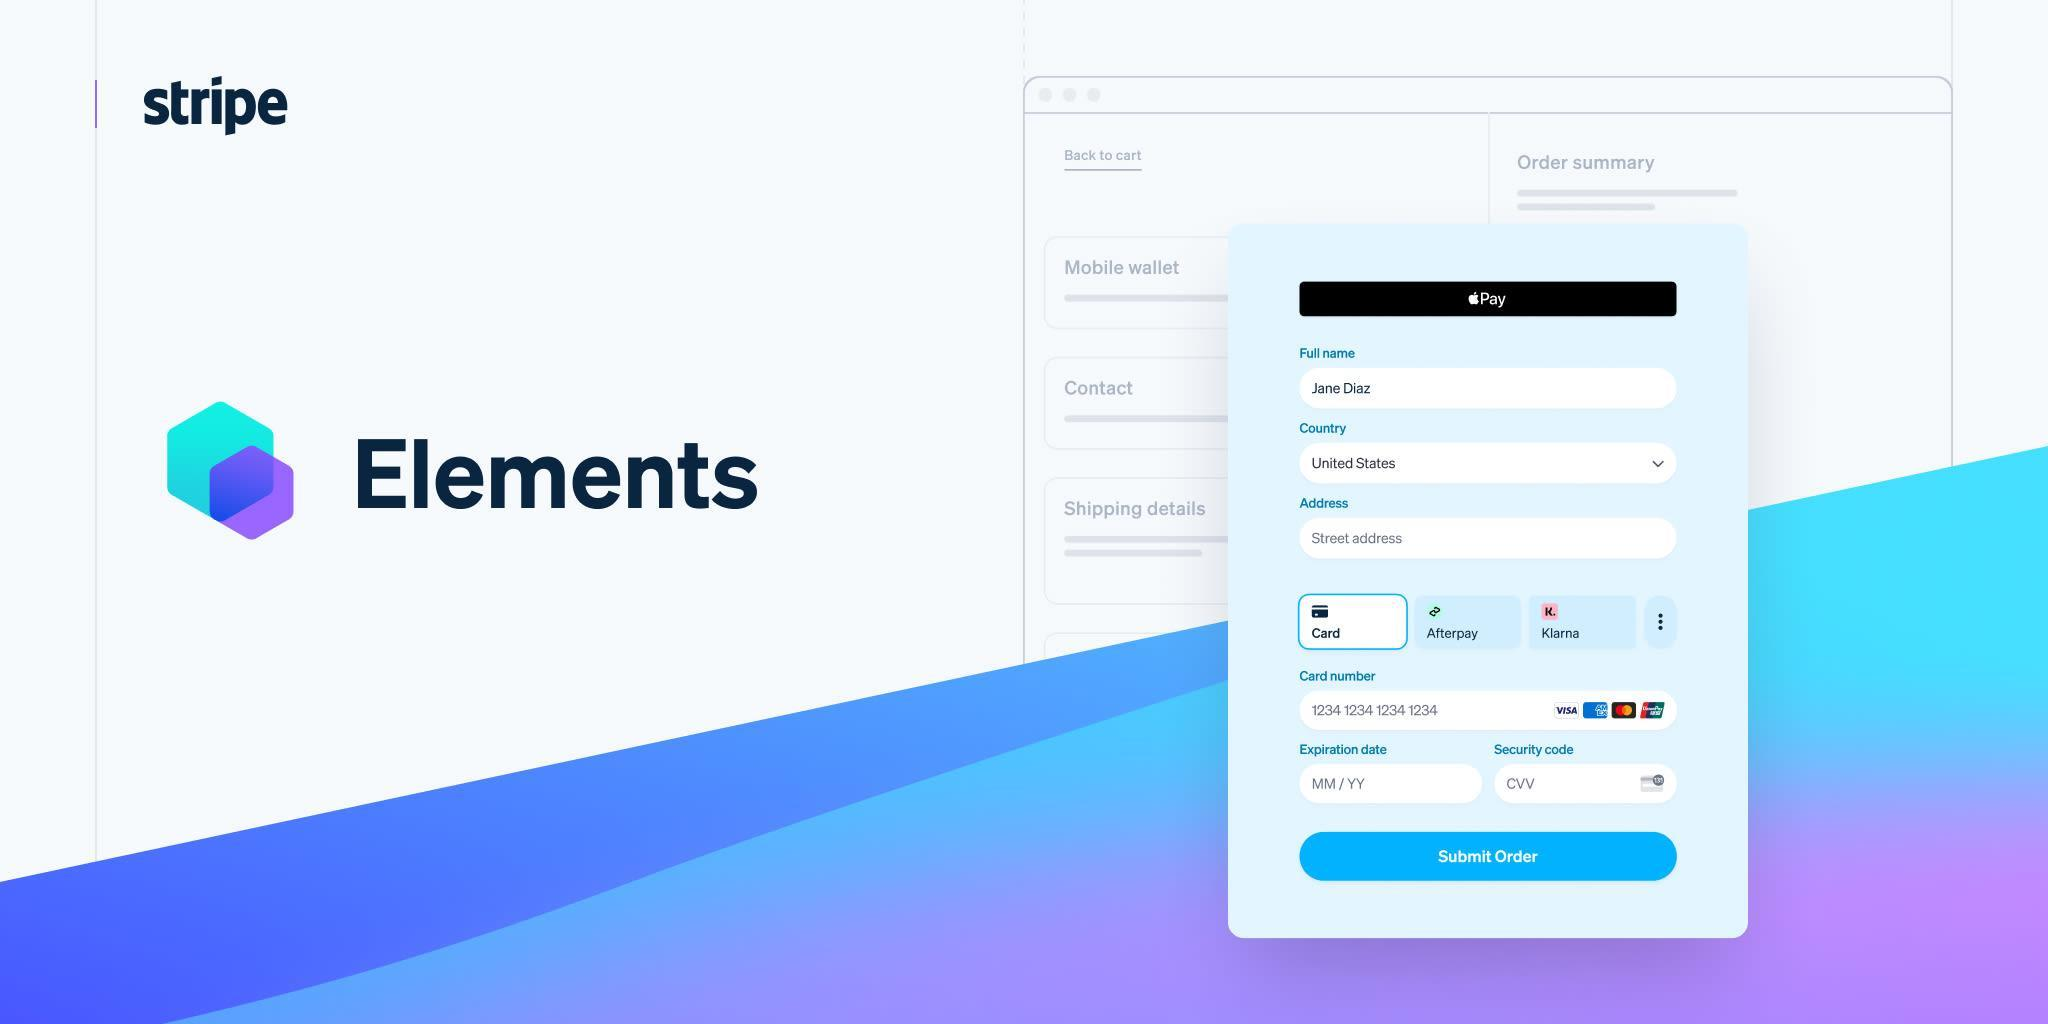button: (1302, 831, 1678, 883), (1297, 281, 1680, 319), (1300, 594, 1411, 650), (1529, 597, 1637, 650), (1420, 596, 1523, 650)
dropdown: (1298, 441, 1678, 486)
icon: (1643, 600, 1680, 650)
input: (1305, 691, 1681, 734), (1300, 370, 1677, 411), (1304, 519, 1677, 556), (1305, 764, 1485, 801), (1497, 768, 1677, 803)
label: (1283, 741, 1395, 764), (1489, 737, 1588, 761), (1296, 664, 1383, 687), (1292, 340, 1370, 366), (1290, 415, 1360, 443), (1290, 492, 1360, 516)
